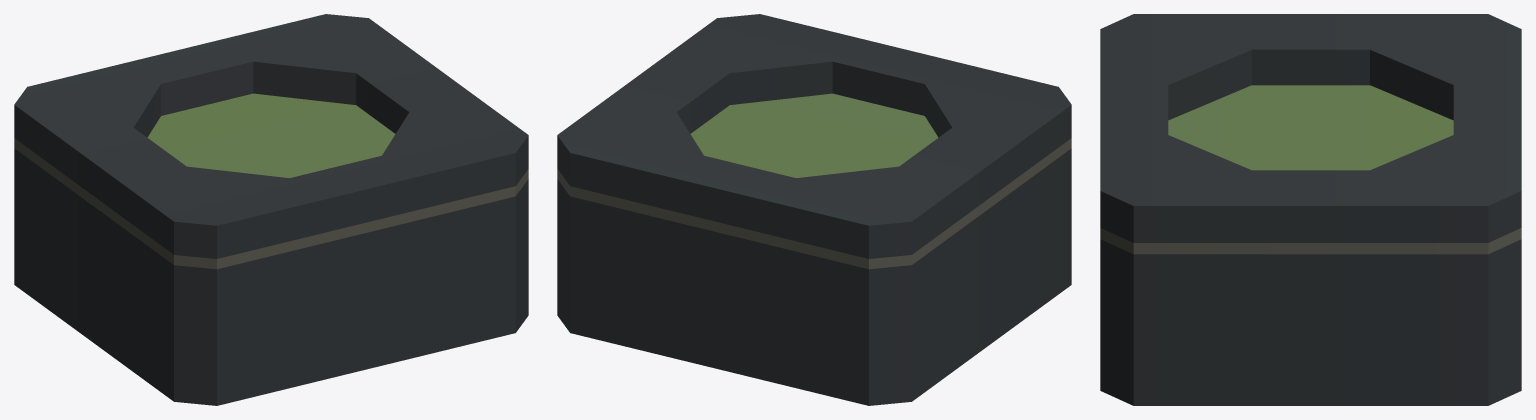
File: HousePart_03.fbx
The picture shows the model from 3 angles, left to right: view 1: azimuth 30°, elevation 25°; view 2: azimuth 150°, elevation 25°; view 3: azimuth 270°, elevation 25°; orthographic projection. The views are drawn at different scales.
Parts seen in each view (by area): view 1: HousePart_03; view 2: HousePart_03; view 3: HousePart_03.
Boxes of the visible parts, bbox=[...] form: HousePart_03: bbox=[14, 14, 528, 405]; HousePart_03: bbox=[557, 14, 1071, 405]; HousePart_03: bbox=[1100, 14, 1521, 405].
Bounding box in the file's own units: 0.6681 × 0.3243 × 0.6192.
